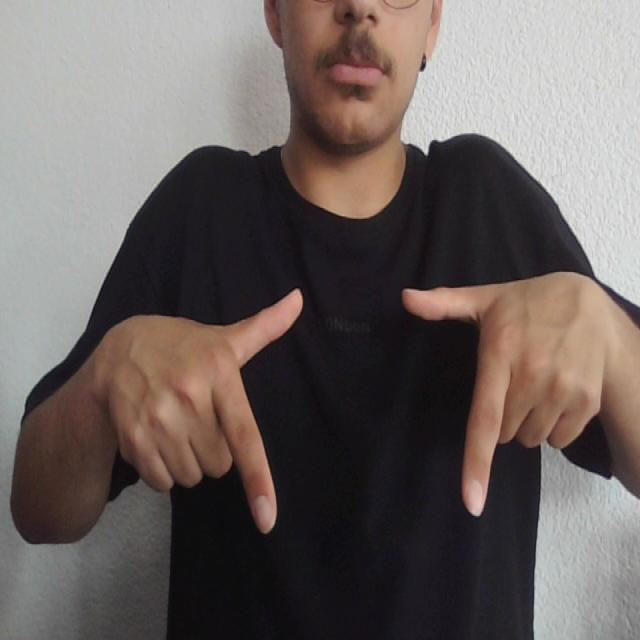Nerede: (219, 272, 513, 545)
